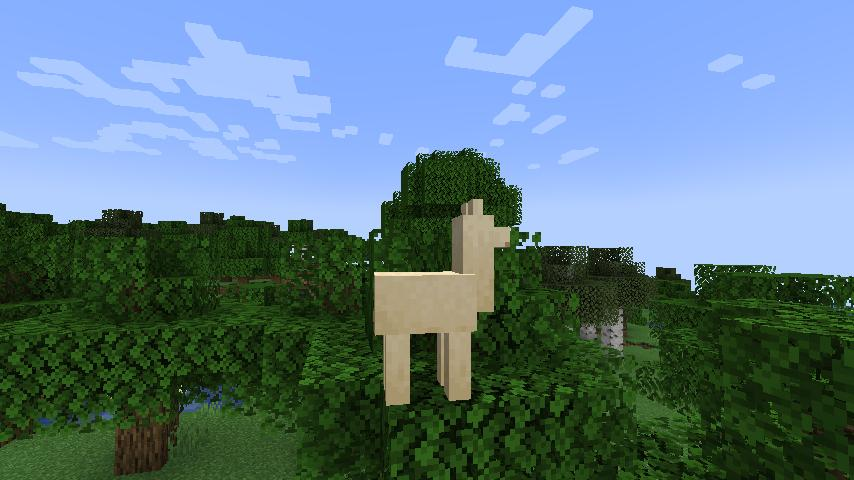llama: (367, 196, 514, 403)
